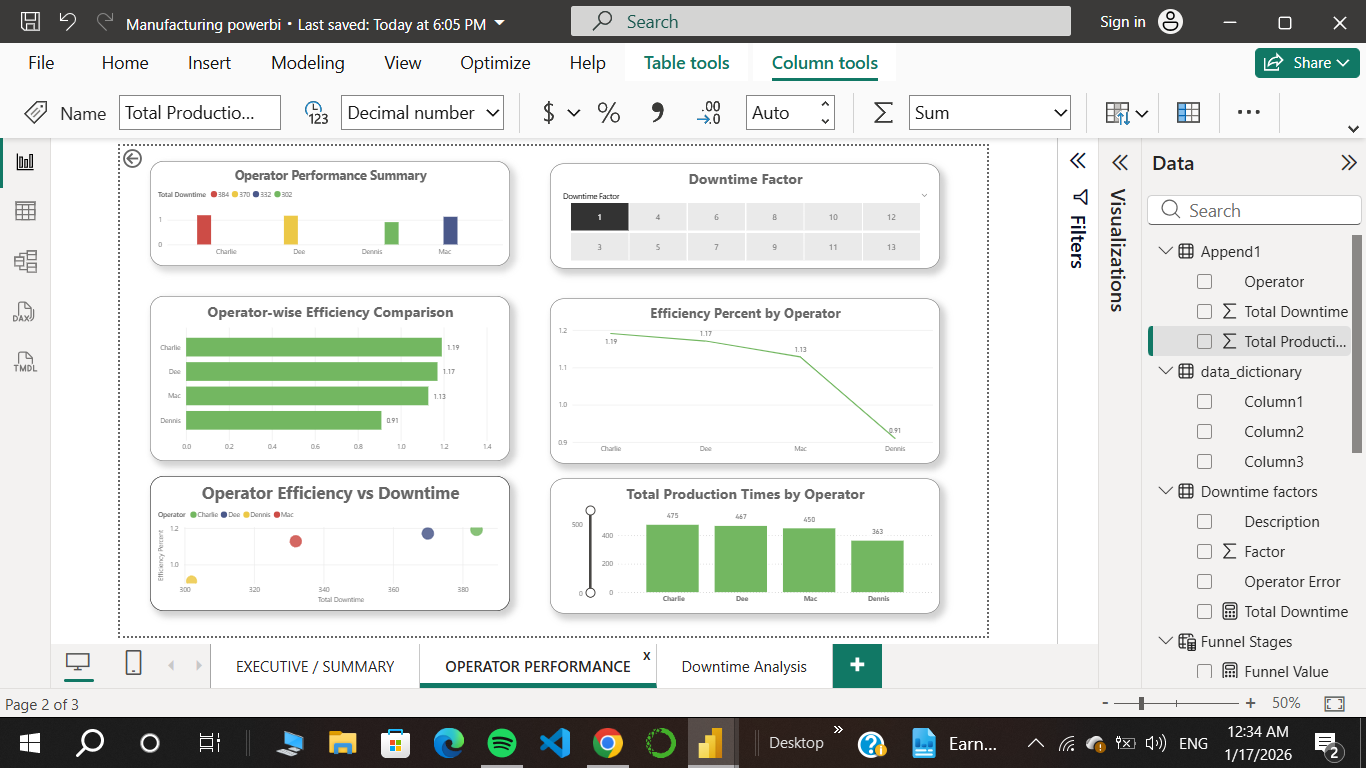

The page's visual inventory and layout, read from the dashboard file:
{"tool":"powerbi","page":{"name":"OPERATOR PERFORMANCE","canvas":[1387,784],"ordinal":1},"visuals":[{"type":"actionButton","box":[0,0,100,40],"z":0},{"type":"clusteredBarChart","title":"Operator-wise Efficiency Comparison","fields":{"Category":["Line productivity.Operator"],"Y":["Line downtime.Efficiency Percent"]},"box":[48,240,576,264],"z":1000},{"type":"lineChart","fields":{"Category":["Line productivity.Operator"],"Y":["Line downtime.Efficiency Percent"]},"box":[687.5,243,624,264],"z":2000},{"type":"lineClusteredColumnComboChart","title":"Operator Performance Summary","fields":{"Category":["Line productivity.Operator"],"Y":["Line downtime.Efficiency Percent"],"Series":["Line productivity.Total Downtime"]},"box":[48,24,576,168],"z":3000},{"type":"slicer","title":"Downtime Factor","fields":{"Values":["Line downtime.Downtime Factor"]},"box":[687.5,27,624,168],"z":4000},{"type":"scatterChart","title":"Operator Efficiency vs Downtime","fields":{"X":["Line productivity.Total Downtime"],"Y":["Line downtime.Efficiency Percent"],"Series":["Line productivity.Operator"],"Size":["Line downtime.Total Production Times"]},"box":[48,528,576,216],"z":5000},{"type":"lineClusteredColumnComboChart","fields":{"Category":["Line productivity.Operator"],"Y":["Line downtime.Total Production Times"]},"box":[687.5,531,624,216],"z":6000}]}

Visuals, with their boxes on the page's 1387x784 design canvas (x1, y1, x2, y2). These are canvas units, not pixel positions in the 1366x768 screenshot, which may show the page scaled, cropped or inside an application window:
actionButton: pyautogui.locateOnScreen(0, 0, 100, 40)
"Operator-wise Efficiency Comparison" clusteredBarChart: pyautogui.locateOnScreen(48, 240, 624, 504)
lineChart - Line productivity.Operator x Line downtime.Efficiency Percent: pyautogui.locateOnScreen(688, 243, 1312, 507)
"Operator Performance Summary" lineClusteredColumnComboChart: pyautogui.locateOnScreen(48, 24, 624, 192)
"Downtime Factor" slicer: pyautogui.locateOnScreen(688, 27, 1312, 195)
"Operator Efficiency vs Downtime" scatterChart: pyautogui.locateOnScreen(48, 528, 624, 744)
lineClusteredColumnComboChart - Line productivity.Operator x Line downtime.Total Production Times: pyautogui.locateOnScreen(688, 531, 1312, 747)
